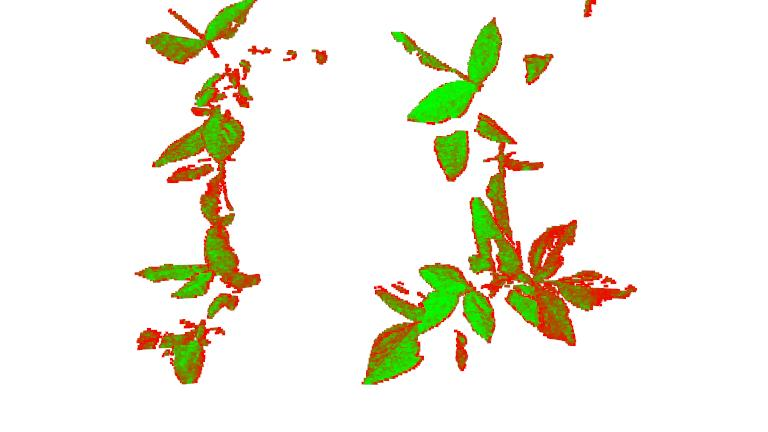mungbean: (362, 179, 634, 388), (387, 11, 555, 184), (143, 1, 268, 192), (139, 195, 262, 384)
